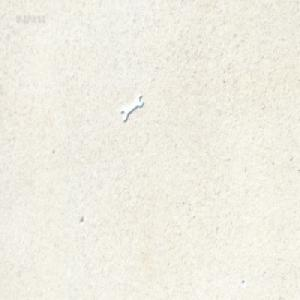Wrench: (121, 93, 143, 121)
